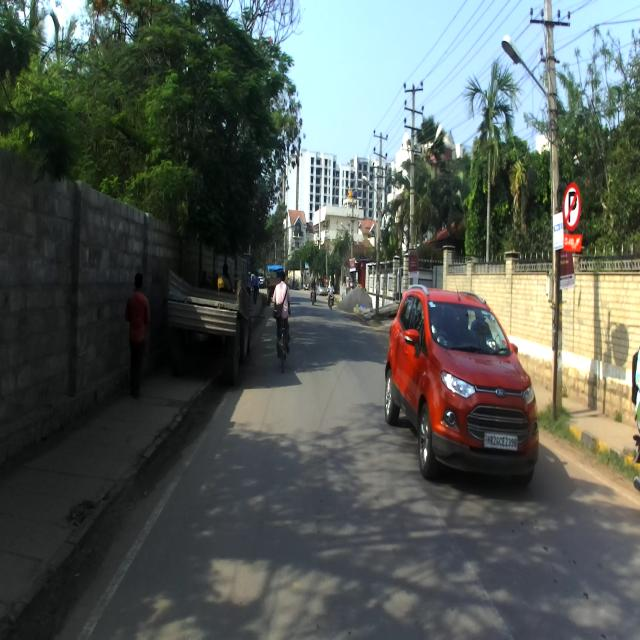car ahead at: (384, 277, 541, 488)
person ahead at: (122, 260, 152, 404)
sign board ahead at: (557, 178, 588, 268)
truck ahead at: (165, 258, 259, 392)
